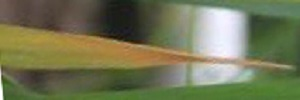RiceTungro: (1, 26, 291, 74)
